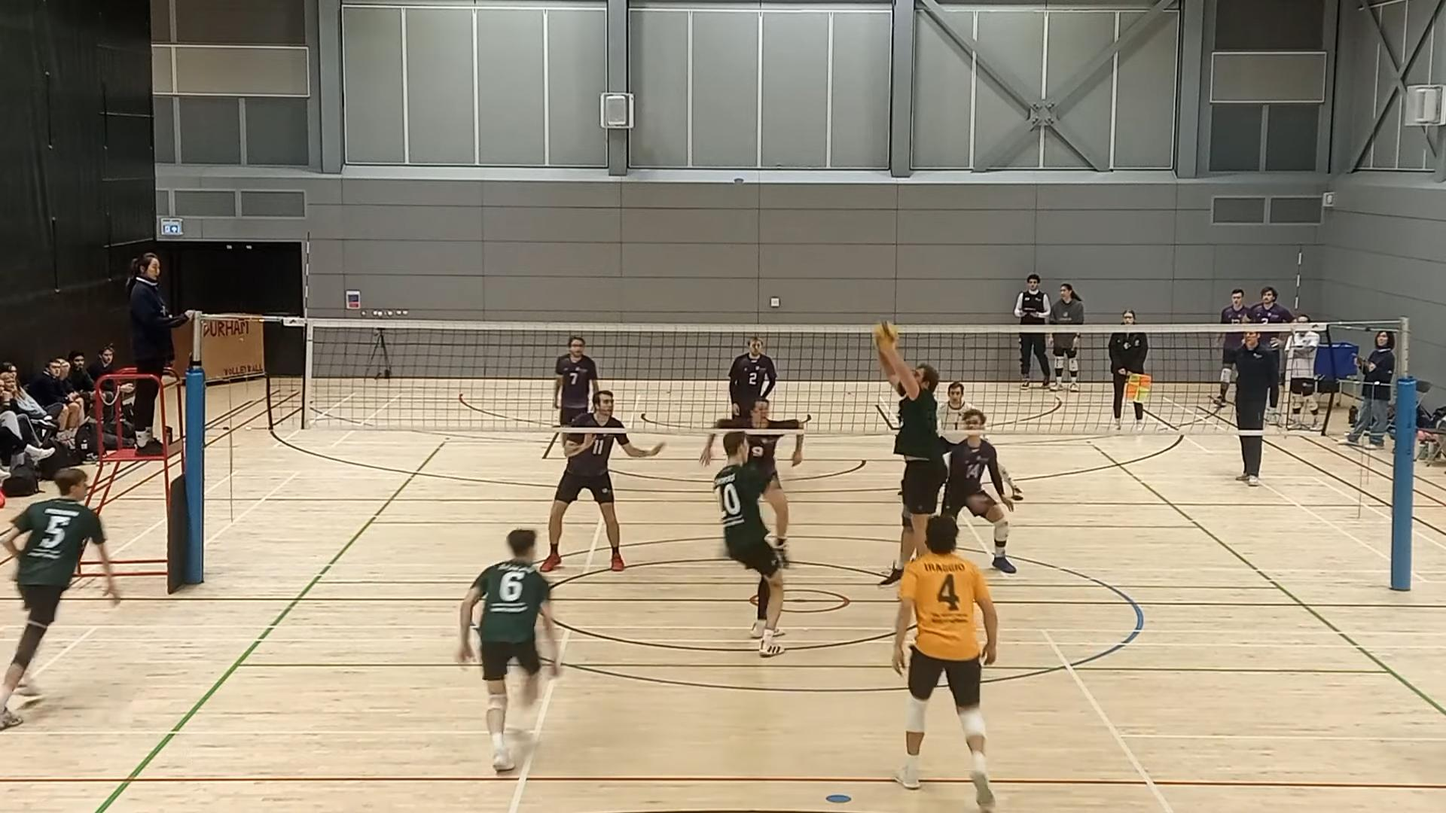Player: (0, 468, 118, 729), (893, 516, 997, 812), (457, 529, 559, 772), (541, 390, 664, 571), (713, 431, 787, 657), (942, 410, 1016, 573), (715, 398, 803, 492), (554, 336, 600, 425), (730, 336, 776, 416), (938, 382, 976, 451)
Set: (871, 326, 940, 591)
ball: (871, 321, 900, 342)
